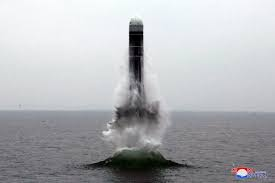ten_lua: (120, 13, 152, 120)
